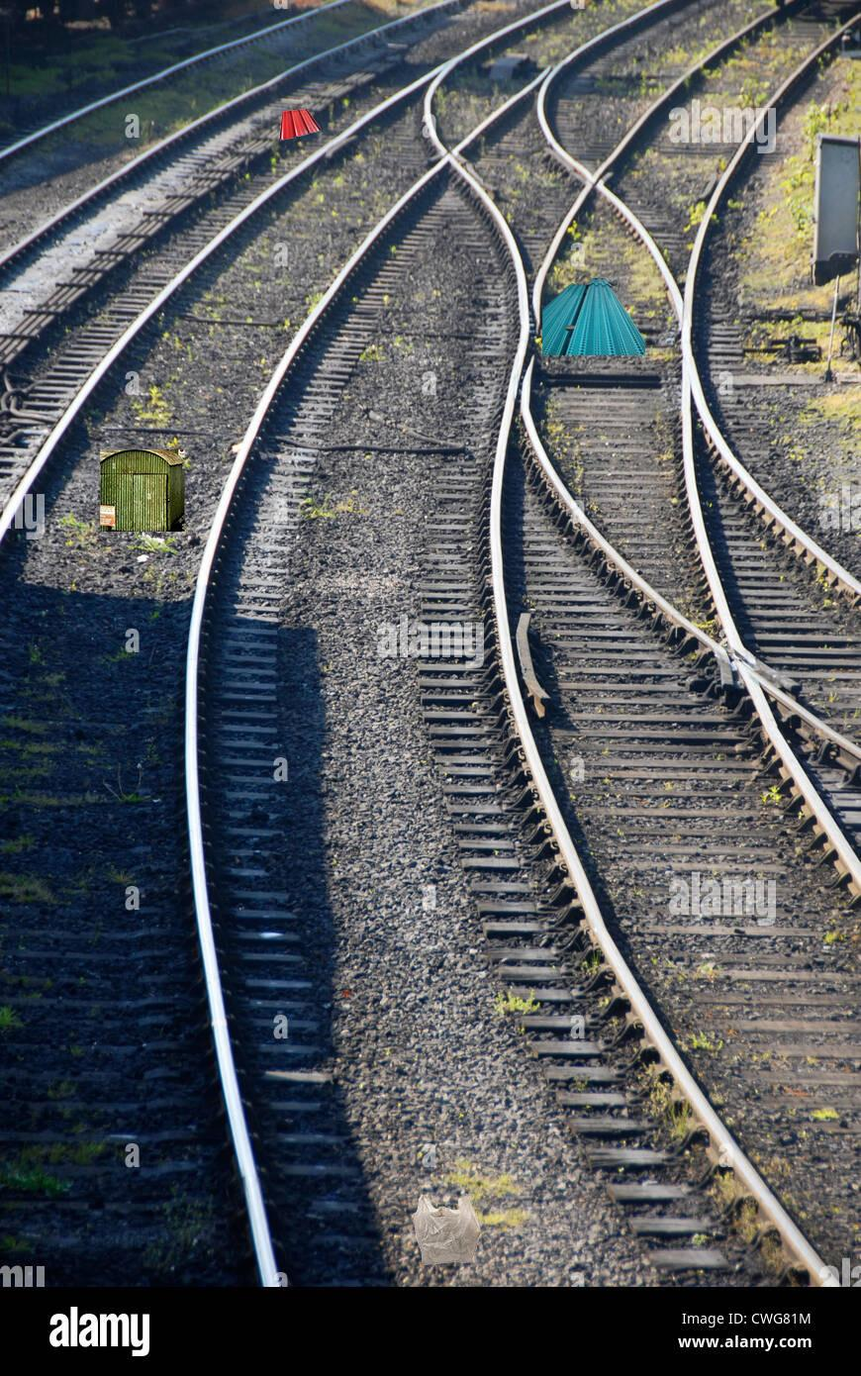Color_steel: (532, 272, 638, 366), (265, 101, 319, 156)
Green_house: (74, 436, 181, 554)
Plastic: (401, 1190, 502, 1277)
